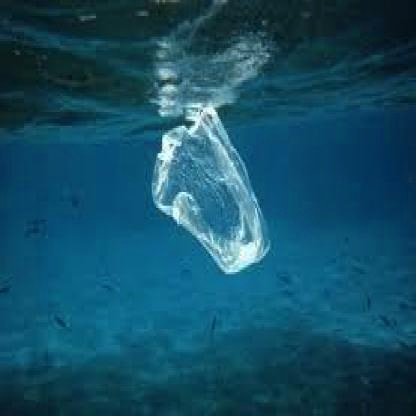pbag: (152, 105, 272, 277)
